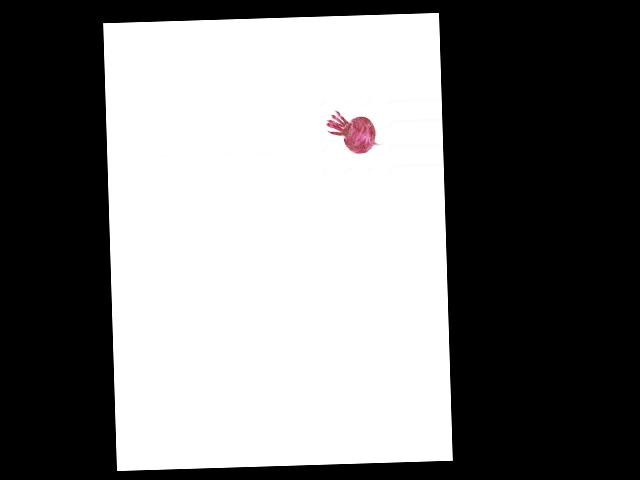beet: (326, 109, 383, 155)
